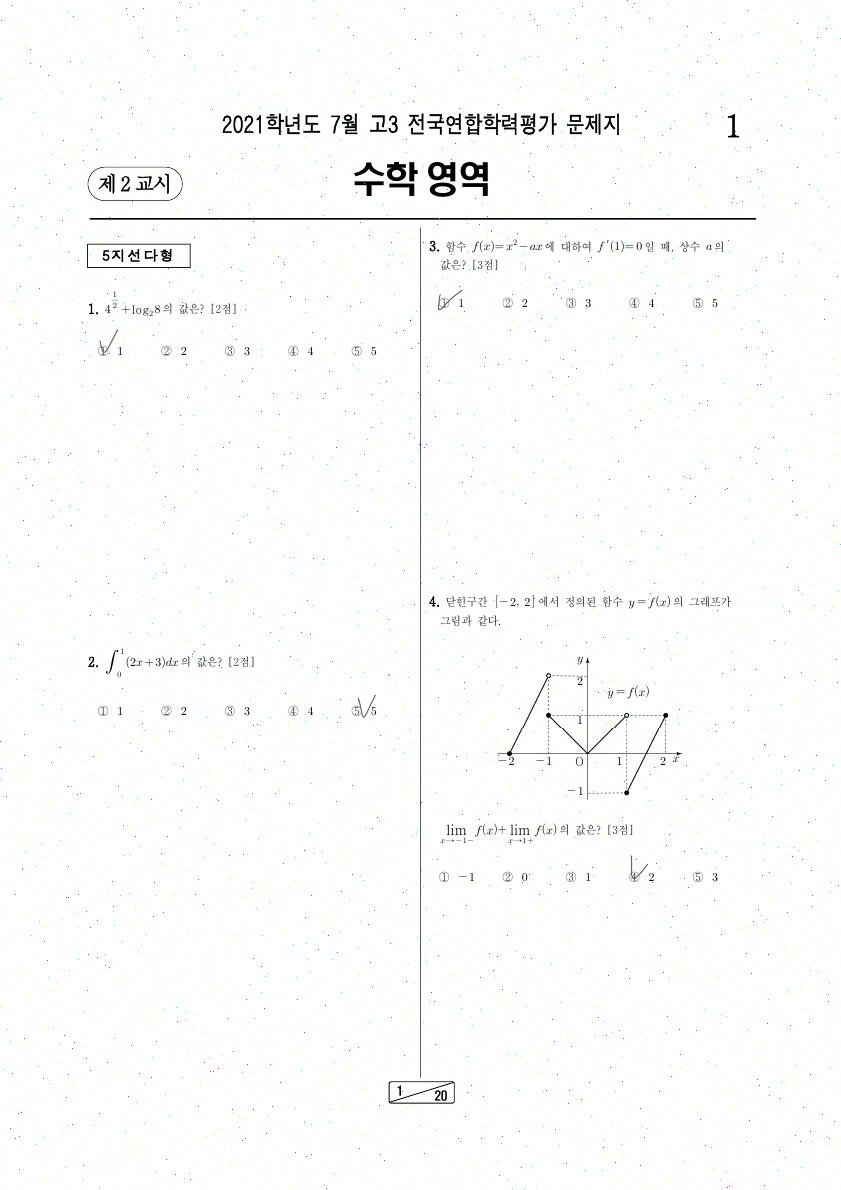question: (421, 586, 748, 903), (421, 224, 737, 330), (63, 643, 394, 736), (72, 285, 390, 377)
